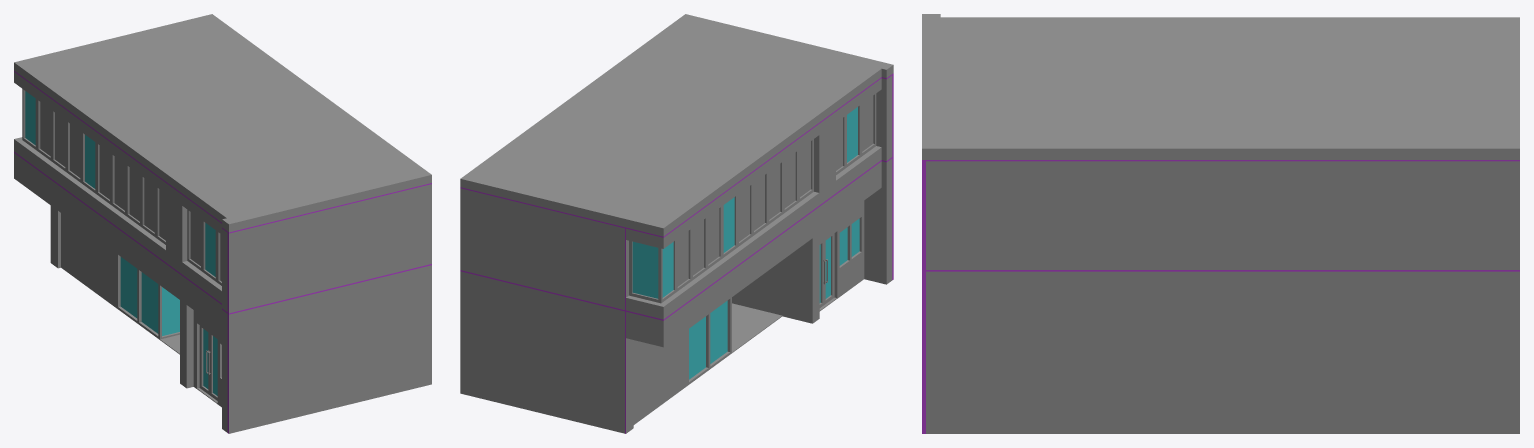
Rendered from BuildingS_08_var2.fbx.
3 renders of one model, left to right at view 1: azimuth 30°, elevation 25°; view 2: azimuth 150°, elevation 25°; view 3: azimuth 270°, elevation 25°, orthographic. The views are drawn at different scales.
Visible parts, largest first — view 1: BuildingS_08_var2; view 2: BuildingS_08_var2; view 3: BuildingS_08_var2.
Part boxes in pixels (x1,y1,x2,y2): BuildingS_08_var2: [14, 14, 431, 433]; BuildingS_08_var2: [460, 14, 893, 433]; BuildingS_08_var2: [922, 14, 1519, 433].
Bounding box in the file's own units: 0.2005 × 0.1978 × 0.3757.
